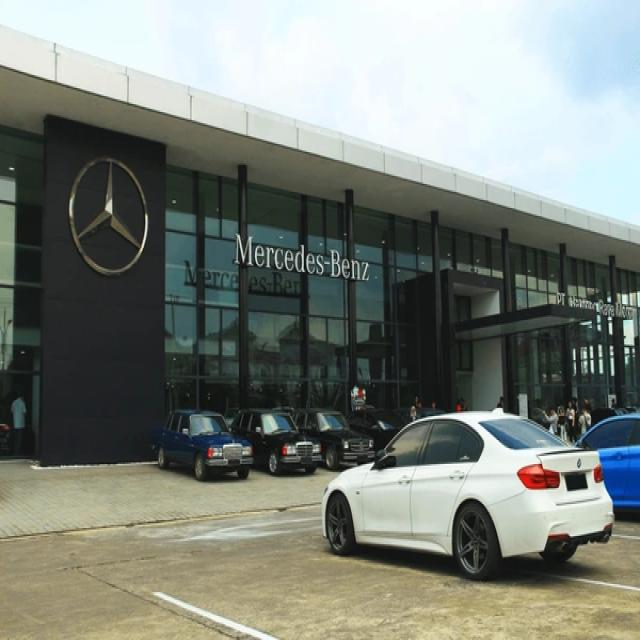mercedes: (64, 156, 154, 276)
